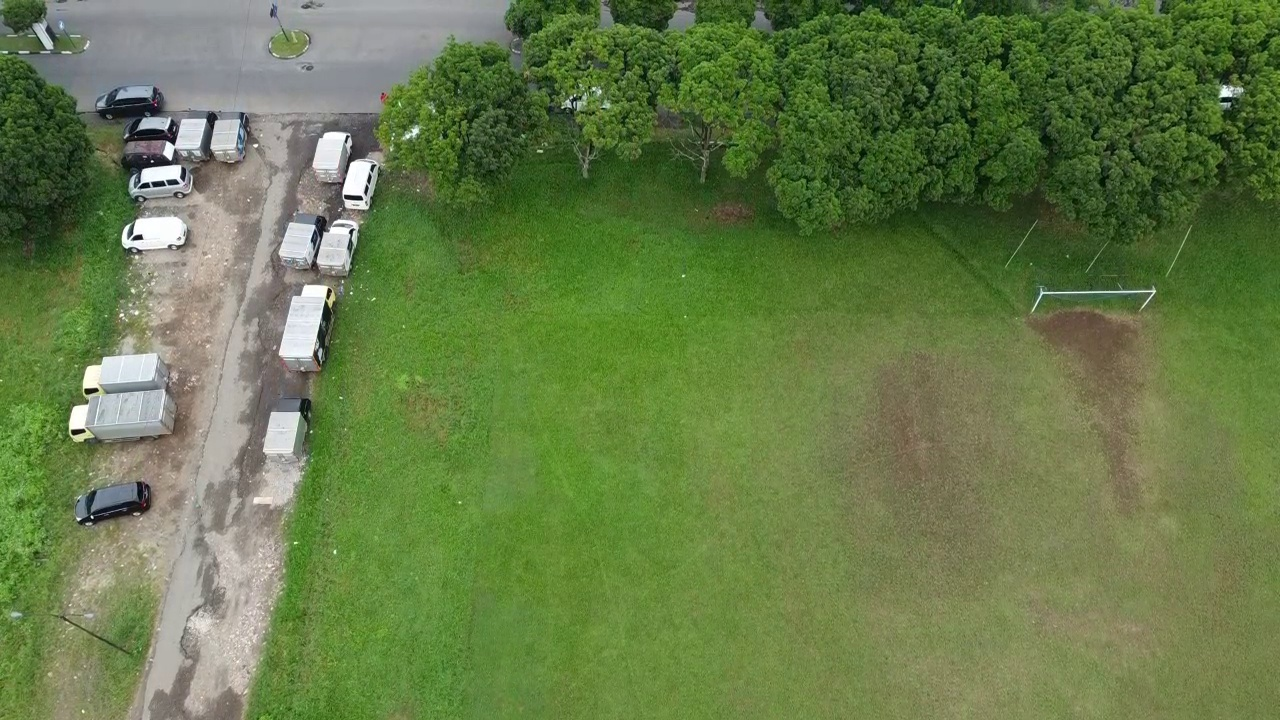mobil: (73, 481, 157, 529), (89, 81, 169, 124), (129, 167, 198, 208), (121, 215, 192, 253), (338, 155, 383, 214), (117, 110, 186, 143), (120, 138, 176, 170)
